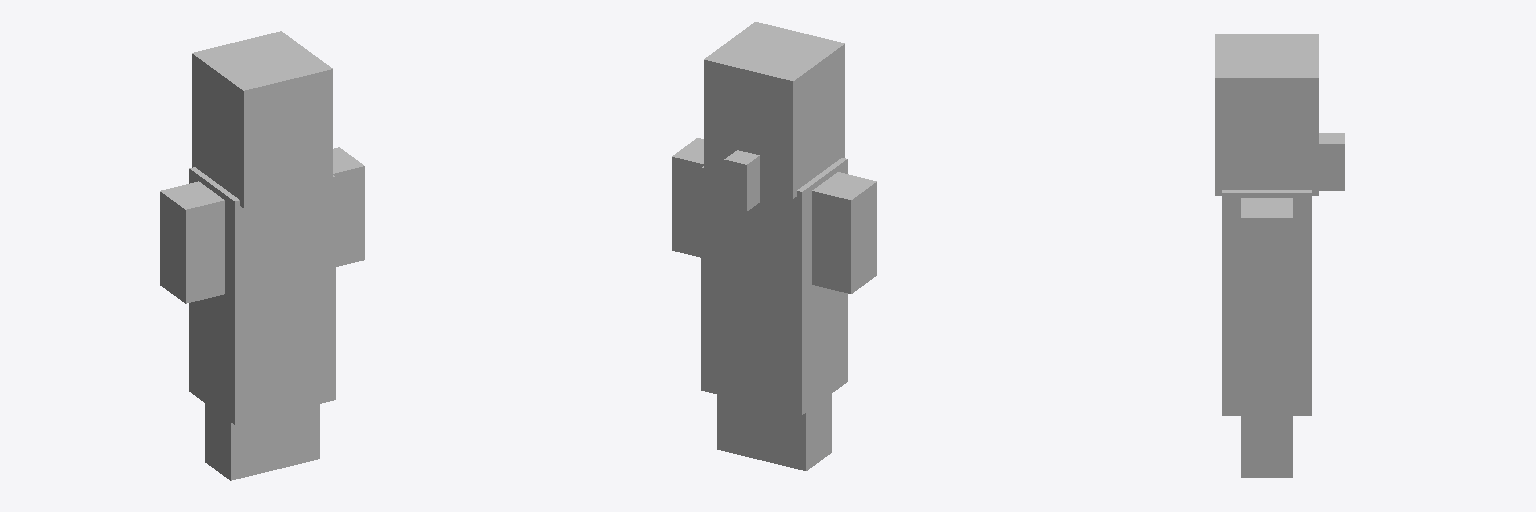
File: villagertwitch.obj
3 renders of one model, left to right at view 1: azimuth 30°, elevation 25°; view 2: azimuth 150°, elevation 25°; view 3: azimuth 270°, elevation 25°, orthographic.
Parts seen in each view (by area): view 1: body, head, arms, leg0, leg1; view 2: body, head, arms, leg0, leg1, nose; view 3: head, body, arms, leg1, nose.
Boxes of the visible parts, x1=… form: body: x1=189, y1=167, x2=335, y2=424; head: x1=192, y1=31, x2=332, y2=207; arms: x1=160, y1=147, x2=364, y2=303; leg0: x1=205, y1=403, x2=274, y2=480; leg1: x1=275, y1=404, x2=319, y2=469; body: x1=701, y1=158, x2=847, y2=414; head: x1=704, y1=22, x2=844, y2=198; arms: x1=672, y1=138, x2=876, y2=293; leg0: x1=762, y1=394, x2=831, y2=470; leg1: x1=717, y1=395, x2=761, y2=459; nose: x1=724, y1=150, x2=759, y2=211; head: x1=1215, y1=34, x2=1318, y2=195; body: x1=1222, y1=190, x2=1311, y2=415; arms: x1=1241, y1=198, x2=1292, y2=311; leg1: x1=1241, y1=416, x2=1292, y2=477; nose: x1=1319, y1=133, x2=1344, y2=190.
Bounding box in the file's own units: 1 × 2.12 × 0.625.